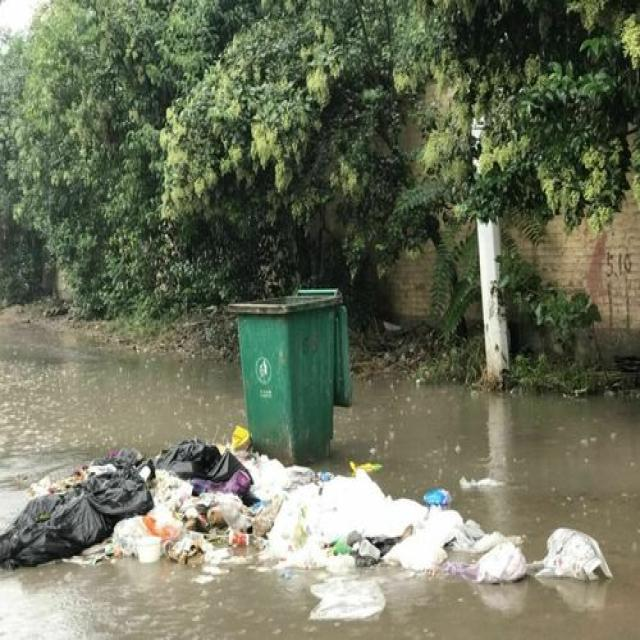garbage: (0, 425, 613, 621)
garbage_bin: (227, 287, 348, 464)
